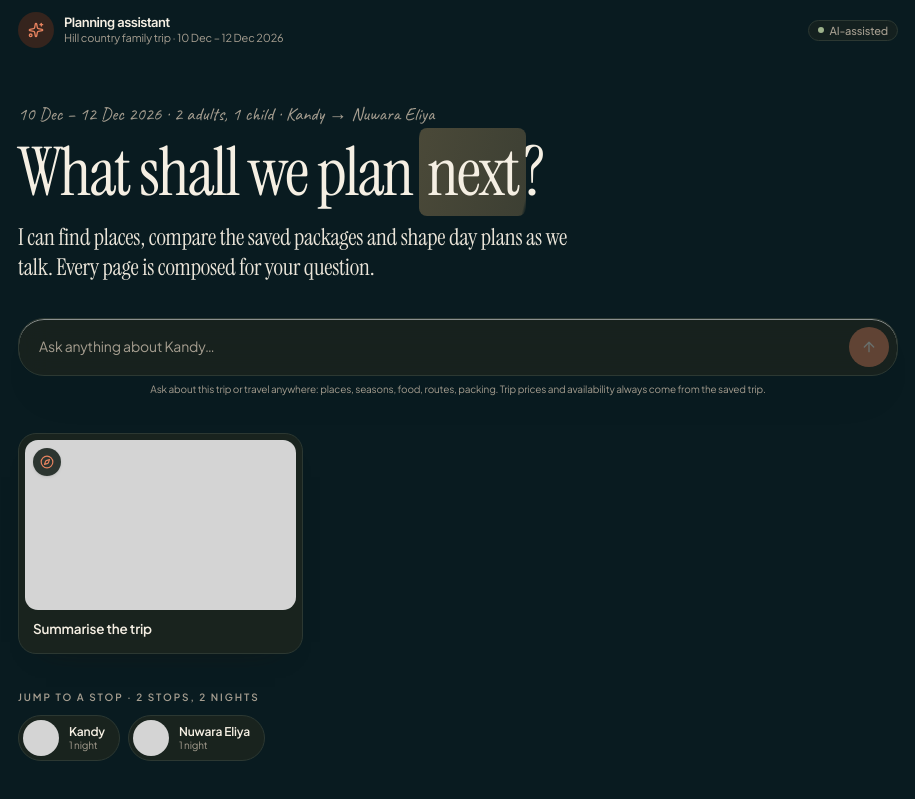
Test case: PlanningPanel › recovers when the stream ends before a validated program is delivered
This screenshot has width=915, height=799.
Expected: the heading "What shall we plan next?" is shown, [18,128,543,216]
What coordinates should you click on to do the following:
click the button "Summarise the trip"
I would click on:
 (161, 543)
Its box is [18,433,303,654].
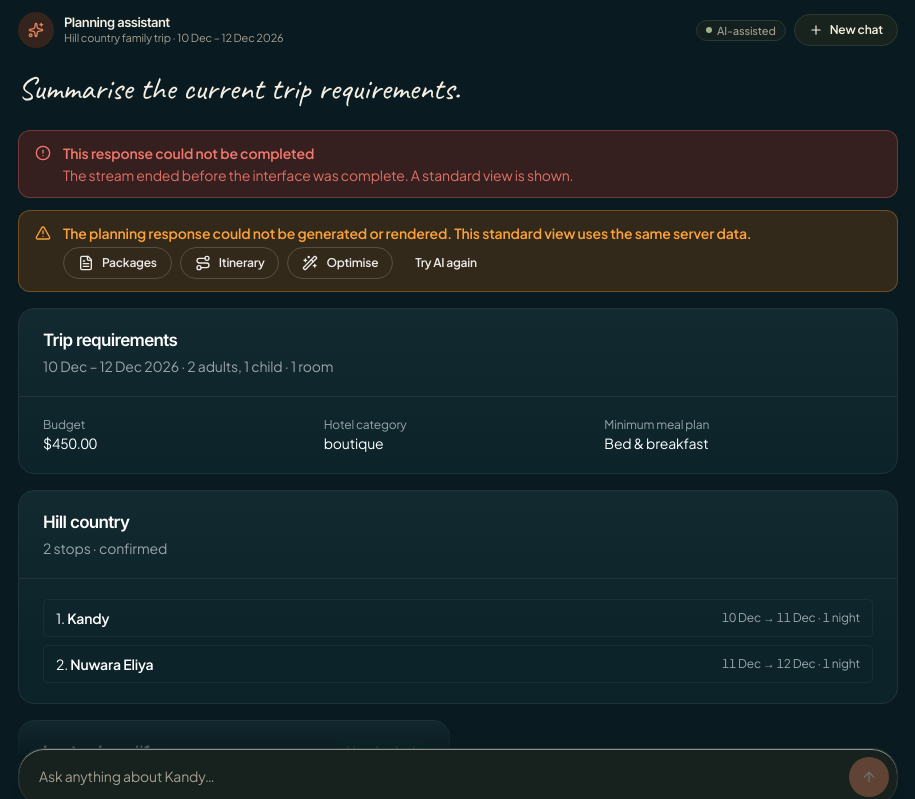
Result: the text "stream ended before the interface was complete" is shown at [63,166,574,184]
Result: the text "could not be generated or rendered" is shown at [63,224,752,242]
